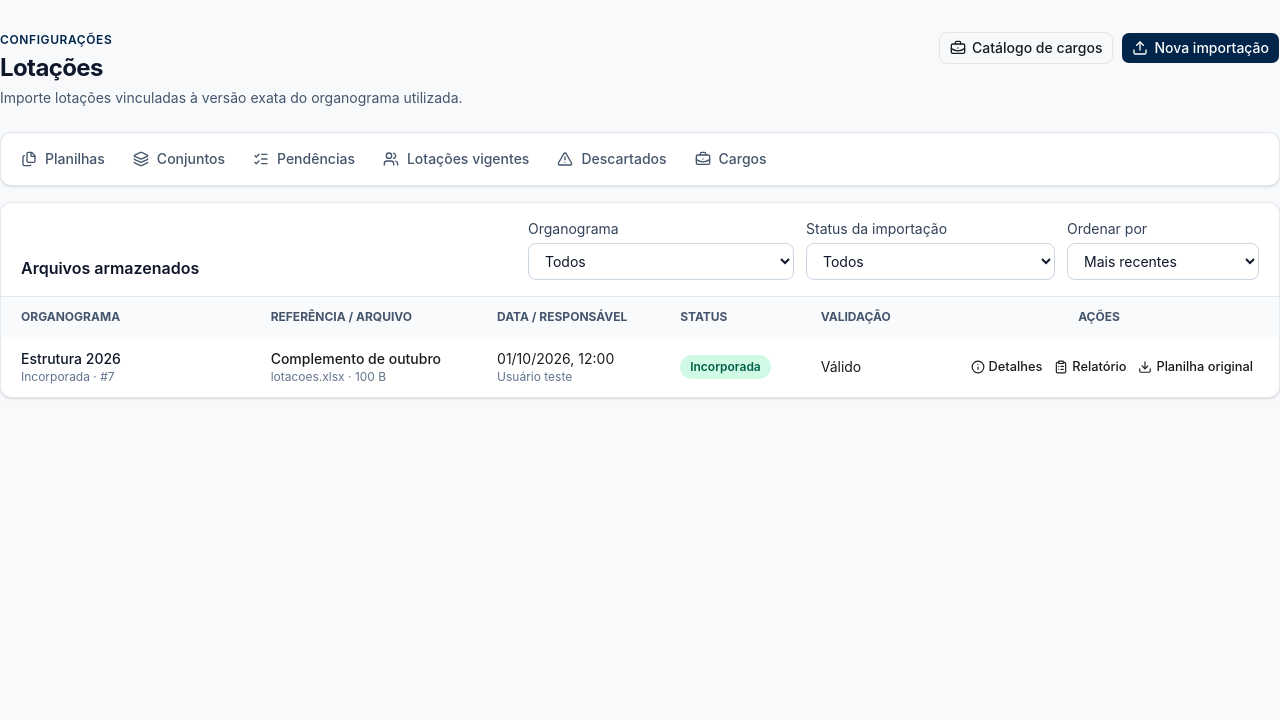
it: telas de importação › prioriza o organograma e explica a preservação histórica nos detalhes
The image size is (1280, 720).
Expected: the text "Estrutura 2026" is shown, [21,350,121,367]
Expected: the column heading "Organograma" is shown, [1,297,251,337]
Click the button "Detalhes" at (1006, 367), box [964,353,1048,381]
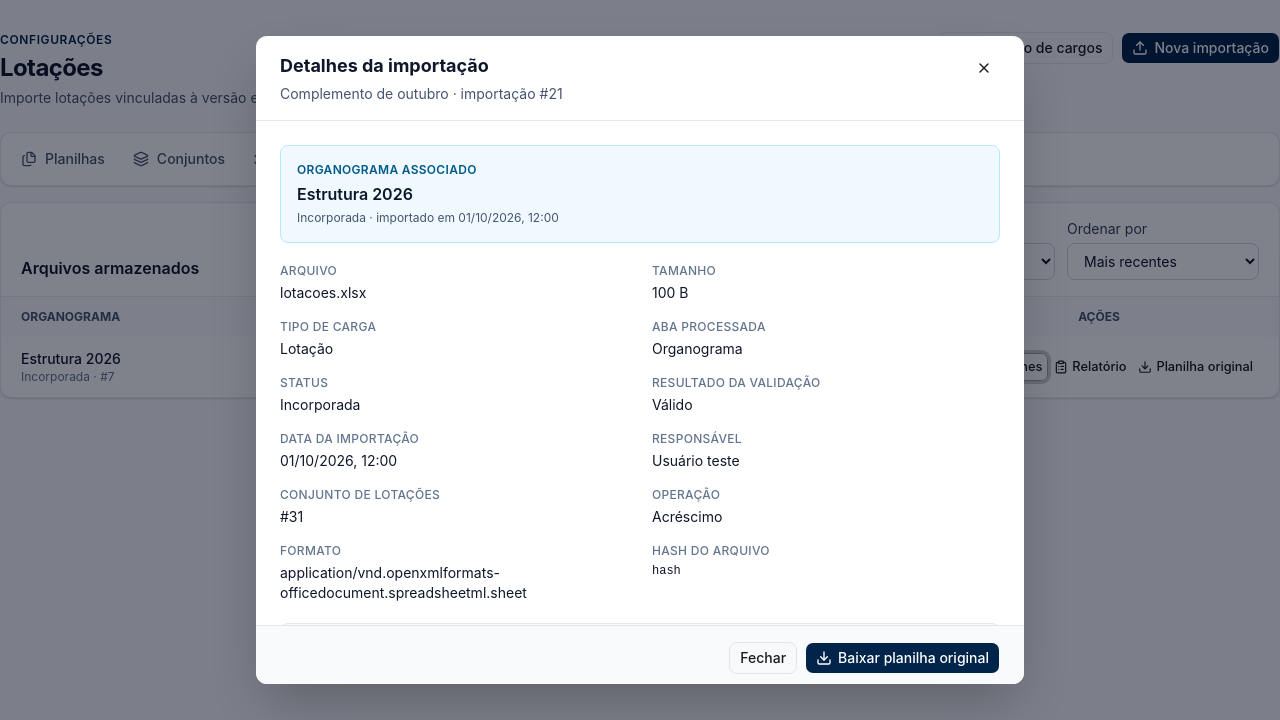
Now the text "Aba processada" is shown, box [652,319,766,334]
Now the text "Acréscimo" is shown, box [652,508,722,525]
Click the button "Fechar" at (763, 658), box [729,642,797,674]
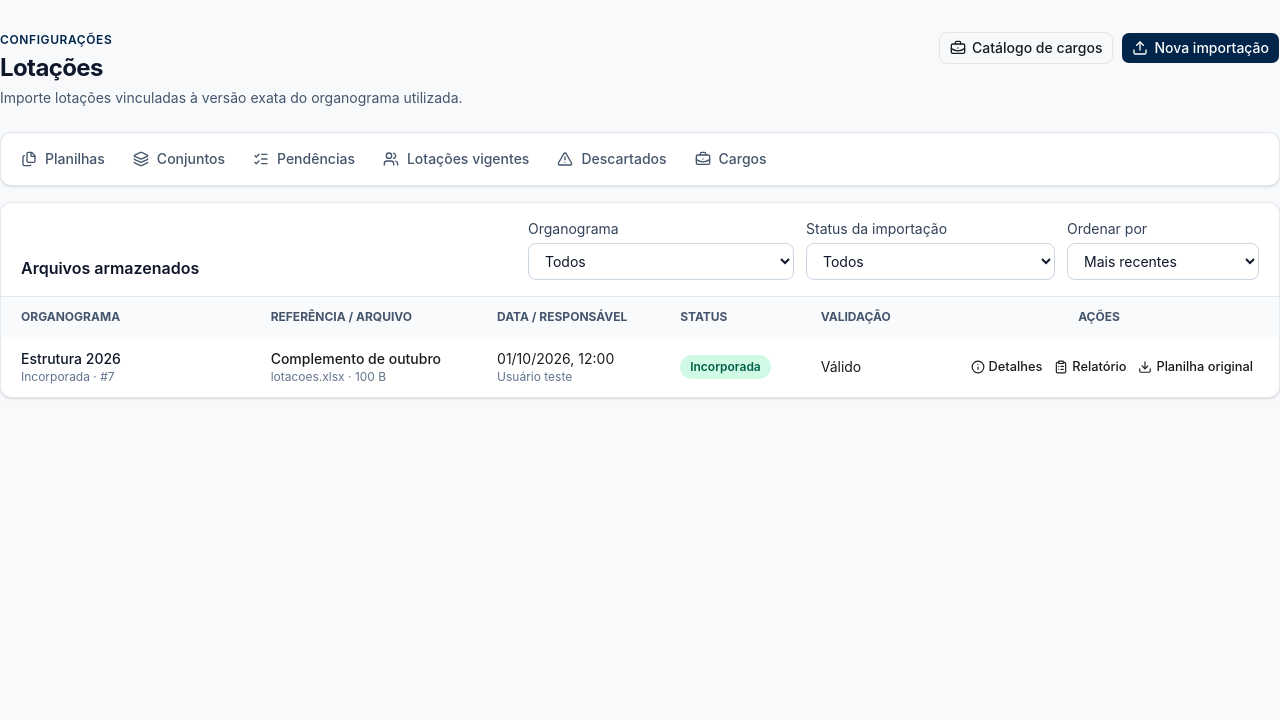
Click the button "Relatório" at (1090, 367), box [1048,353,1132,381]
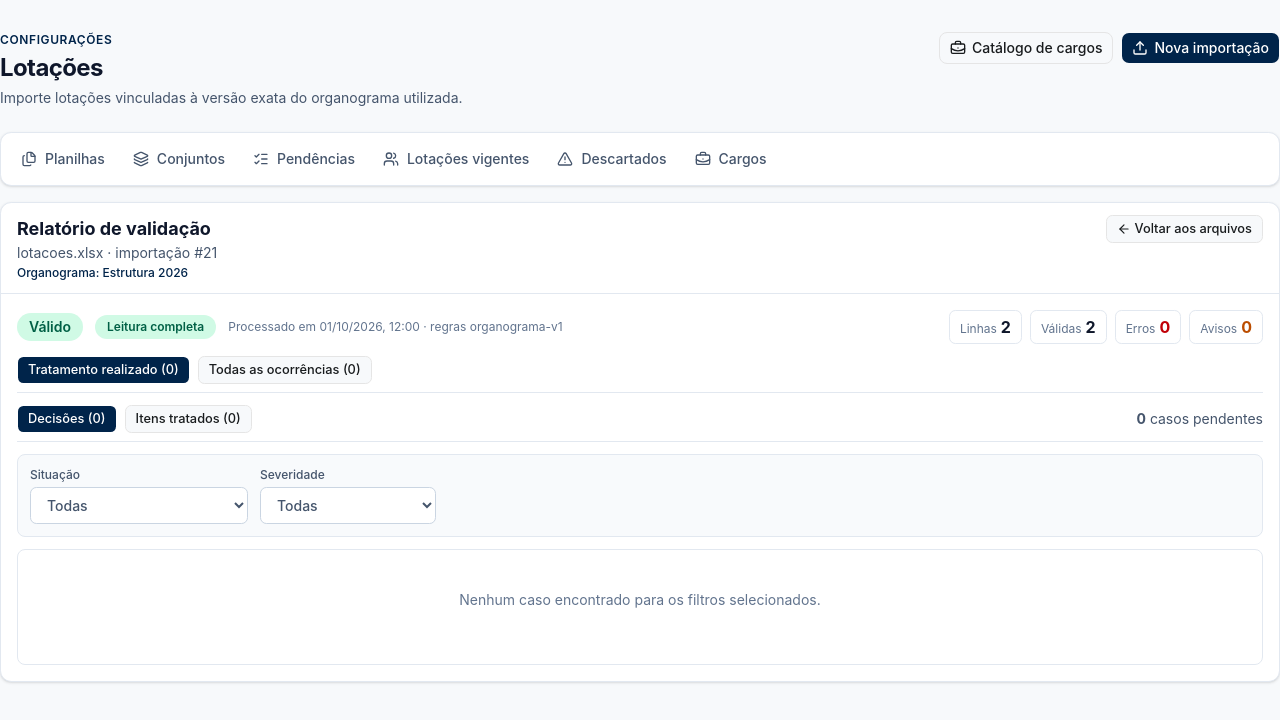
Now the text "Organograma: Estrutura 2026" is shown, box [17,265,217,281]
